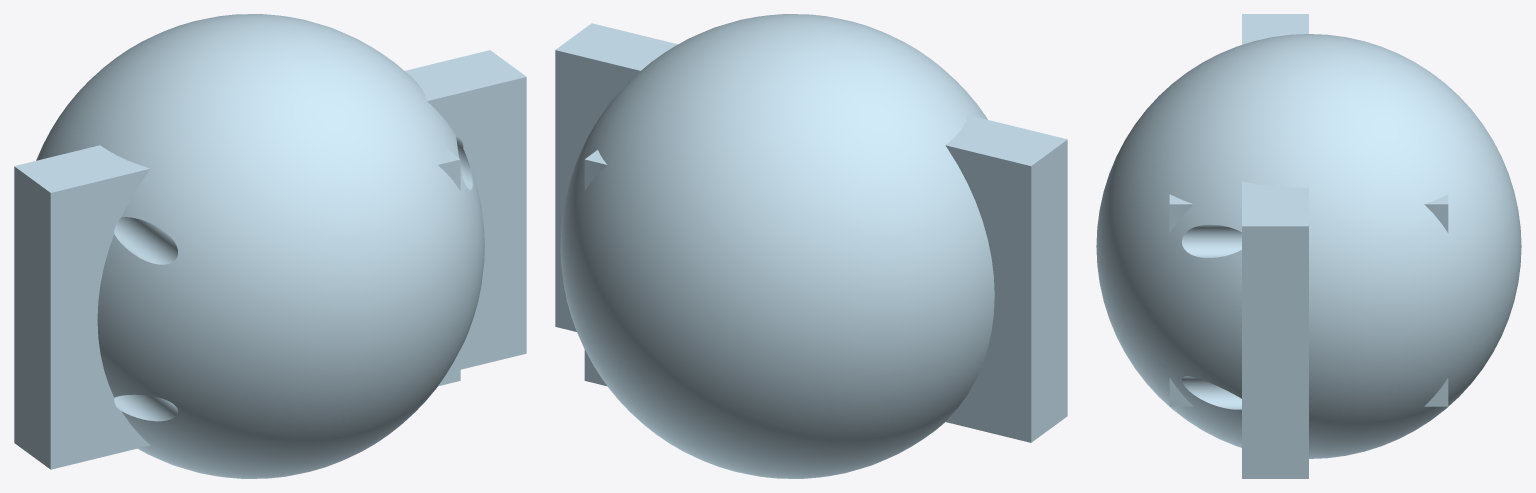
3 renders of one model, left to right at view 1: azimuth 30°, elevation 25°; view 2: azimuth 150°, elevation 25°; view 3: azimuth 270°, elevation 25°, orthographic. The views are drawn at different scales.
Parts seen in each view (by area): view 1: Part 1; view 2: Part 1; view 3: Part 1.
Boxes of the visible parts, x1,y1,x2,y2 form: Part 1: [14, 14, 526, 478]; Part 1: [555, 14, 1067, 478]; Part 1: [1096, 14, 1521, 478].
Bounding box in the file's own units: 0.09 × 0.0762 × 0.0762.
